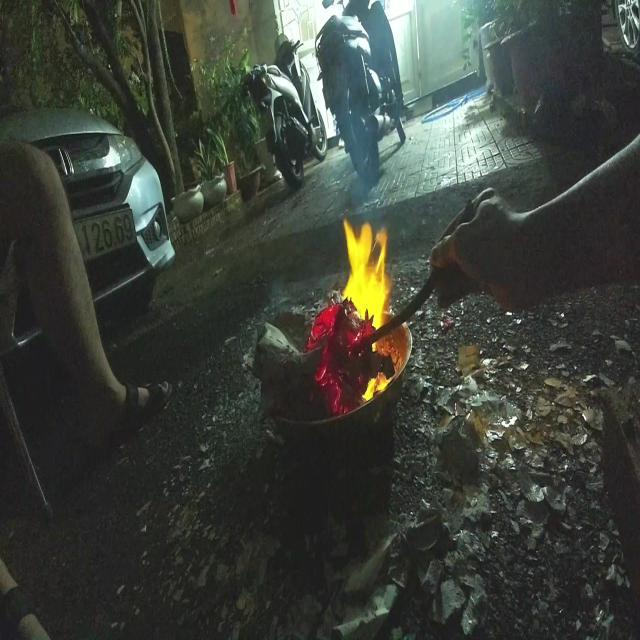Fire: (340, 216, 394, 401)
